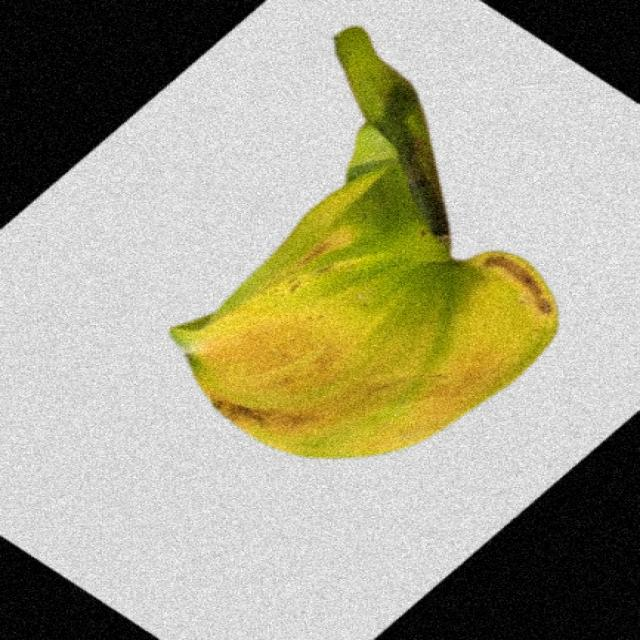daun berpenyakit kuning: (170, 28, 558, 457)
